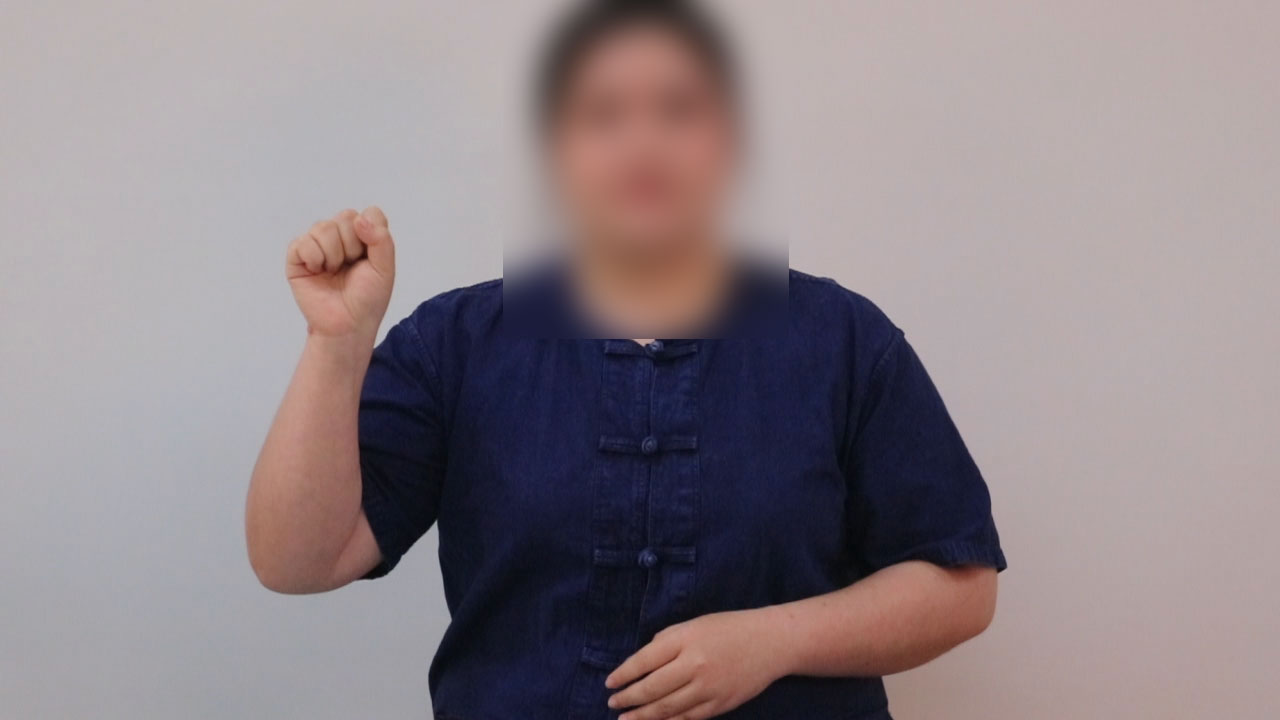sor: (269, 194, 413, 346)
